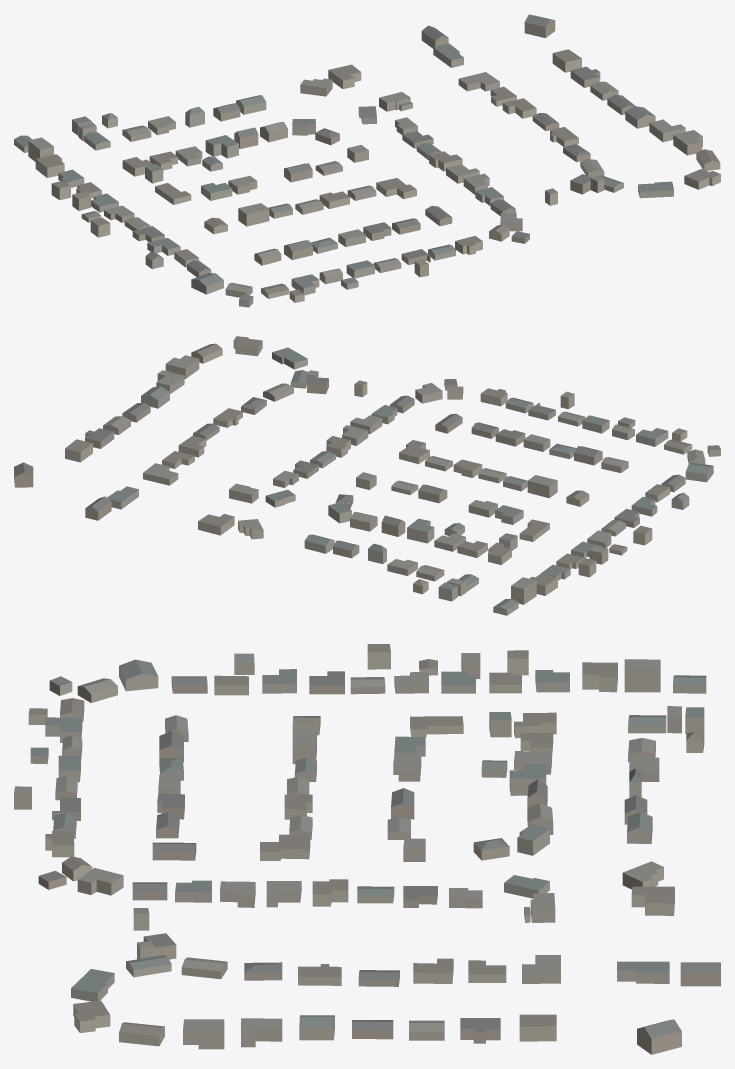
The model's file is 491ffd19daae-chunk-1207_11839.glb.
The picture shows the model from 3 angles, top to bottom: view 1: azimuth 30°, elevation 25°; view 2: azimuth 150°, elevation 25°; view 3: azimuth 270°, elevation 25°; orthographic projection. The views are drawn at different scales.
Visible parts, largest first — view 1: building_171235, building_144334, building_3329, building_89259, building_128713, building_76410, building_31210, building_154474, building_170364, building_99665, building_127367, building_128941 (+7 smaller); view 2: building_144334, building_76410, building_78356, building_89259, building_128713, building_171235, building_3329, building_99665, building_11275, building_154474, building_47230, building_31210 (+6 smaller); view 3: building_78356, building_89259, building_31210, building_144334, building_23110, building_3329, building_128941, building_11275, building_170364, building_127367, building_19576, building_99665 (+50 smaller).
Part boxes in pixels (x1,y1,x2,y2): building_171235: (205,135,238,158); building_144334: (328,64,361,88); building_3329: (376,178,416,199); building_89259: (673,130,702,155); building_128713: (458,72,499,91); building_76410: (238,203,269,226); building_31210: (524,14,555,38); building_154474: (684,169,720,189); building_170364: (35,154,64,177); building_99665: (638,181,673,198); building_127367: (191,273,223,294); building_128941: (649,119,685,142); building_144334: (198,513,234,535); building_76410: (527,475,557,498); building_78356: (511,577,536,604); building_89259: (165,355,199,378); building_128713: (143,463,178,485); building_171235: (407,518,434,543); building_3329: (399,440,429,464); building_99665: (272,347,307,369); building_11275: (65,439,92,462); building_154474: (233,336,262,356); building_47230: (141,386,169,408); building_31210: (14,462,33,487); building_78356: (624,659,660,692); building_89259: (183,1019,224,1049); building_31210: (637,1019,681,1054); building_144334: (631,886,674,915); building_23110: (617,961,669,983); building_3329: (260,834,310,860); building_128941: (241,1018,282,1047); building_11275: (519,1014,556,1041); building_170364: (582,662,617,692); building_127367: (119,659,158,691); building_19576: (410,716,463,737); building_99665: (71,969,114,1001).
Bounding box in the file's own units: 375 × 10.8 × 285.
